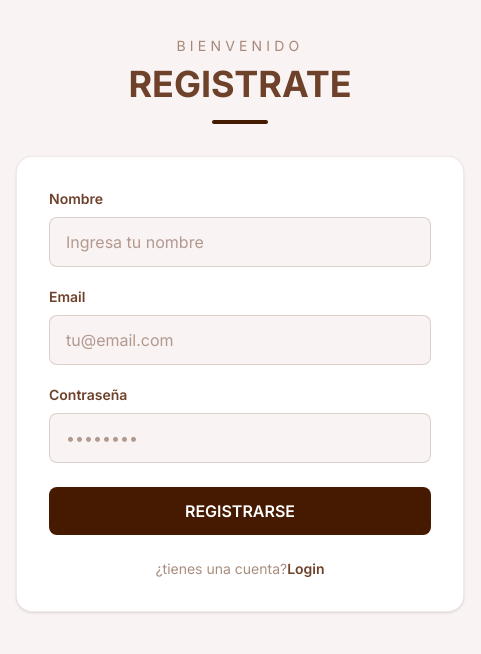
Register › valida el dominio del correo
Type "Ana" into the field labelled "Nombre". click: point(240, 242)
box: [49, 217, 431, 267]
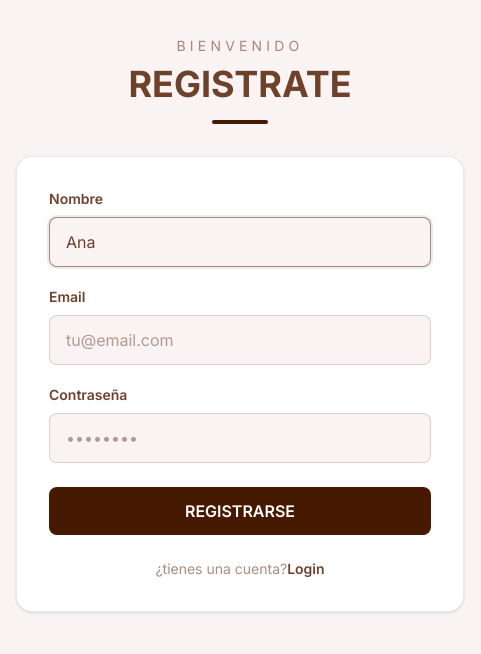
Type "ana@hotmail.com" into the field labelled "Email". click: point(240, 340)
box: [49, 315, 431, 365]
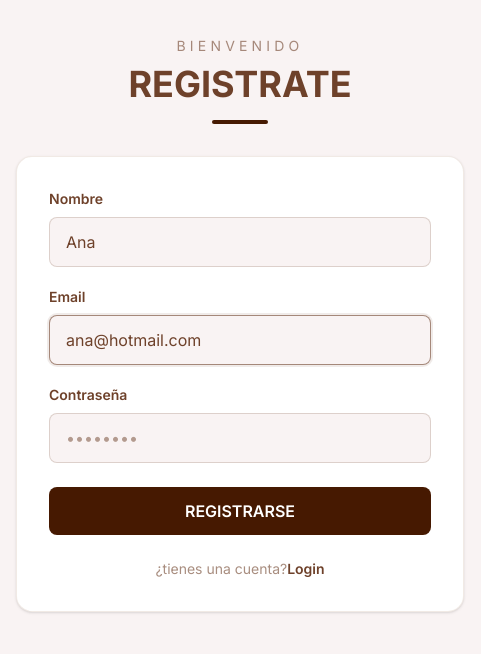
Type "1234" into the password field labelled "Contraseña". click: point(240, 438)
box: [49, 413, 431, 463]
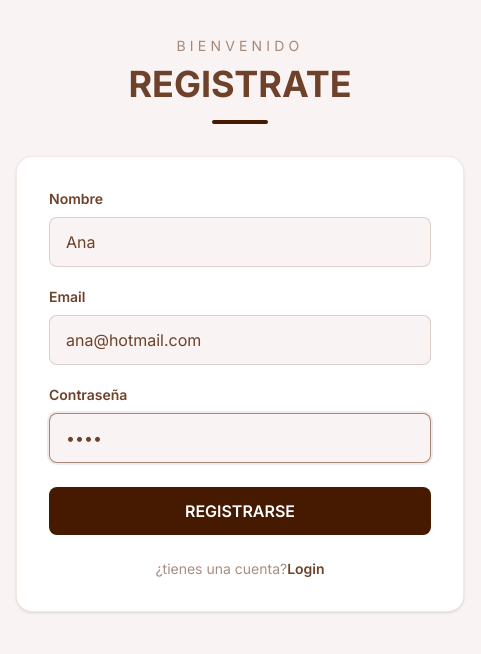
Click the button "REGISTRARSE". click: point(240, 511)
box: [49, 487, 431, 535]
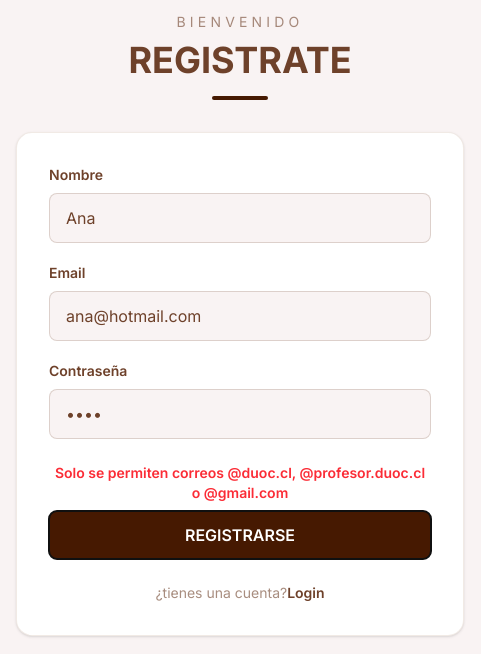
Expected: the text "Solo se permiten correos" is shown, [55, 464, 425, 501]
